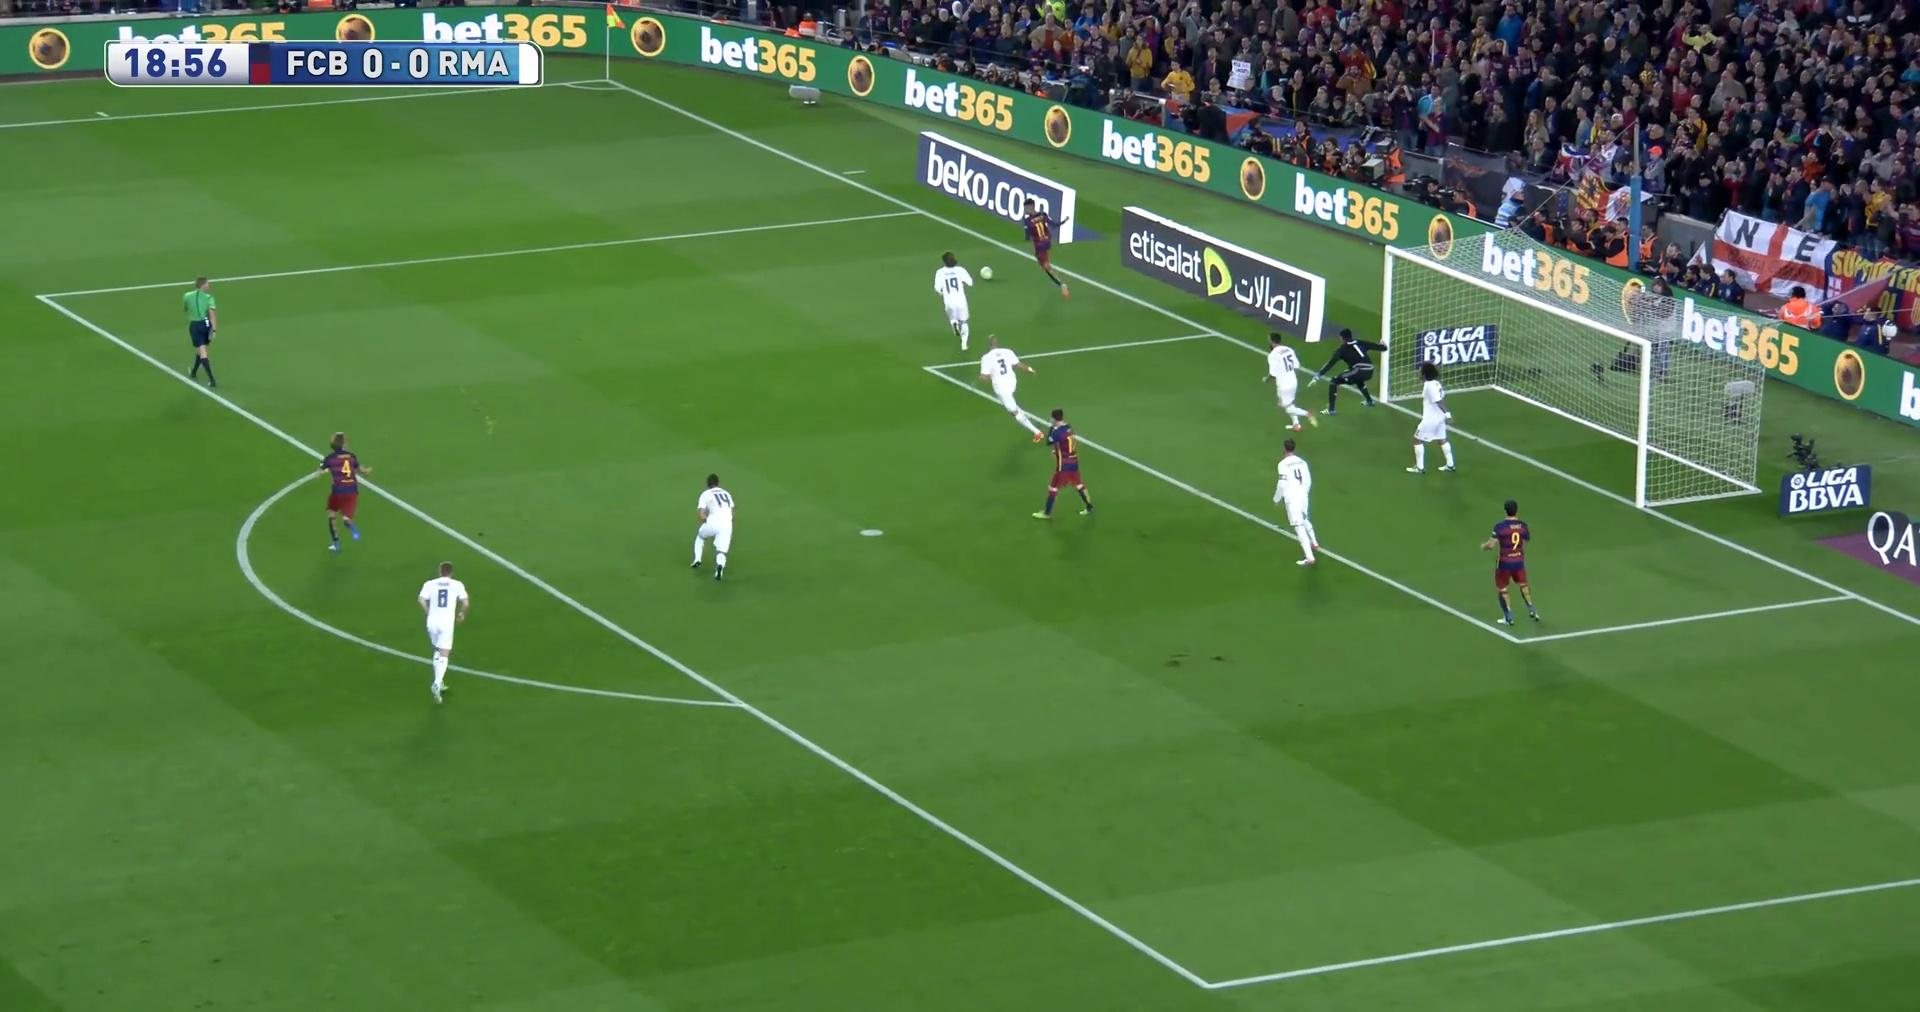ball: (978, 264, 997, 281)
